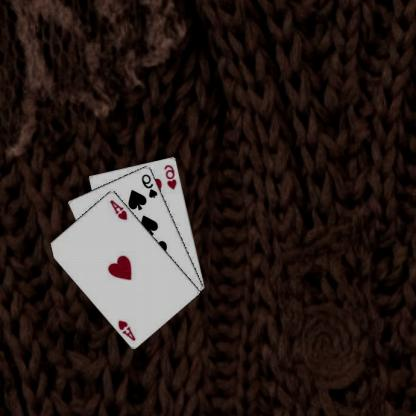6H: (163, 162, 180, 190)
9S: (141, 171, 160, 199)
AH: (117, 317, 139, 342), (109, 197, 130, 221)
